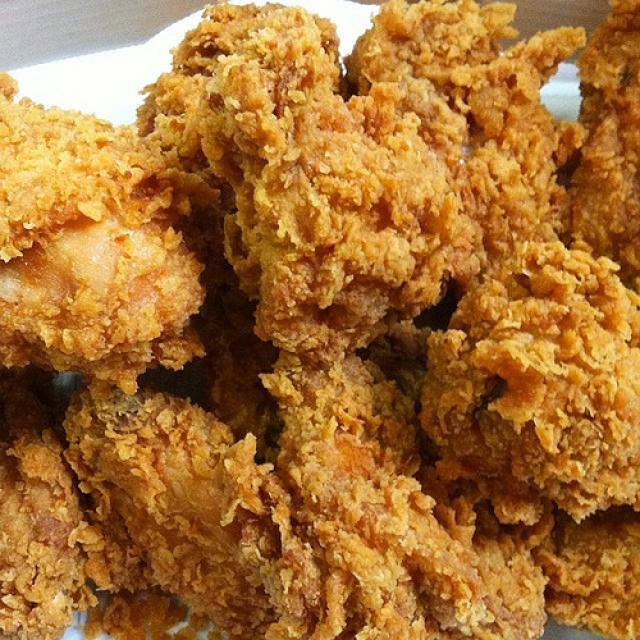Frango: (0, 0, 640, 628)
